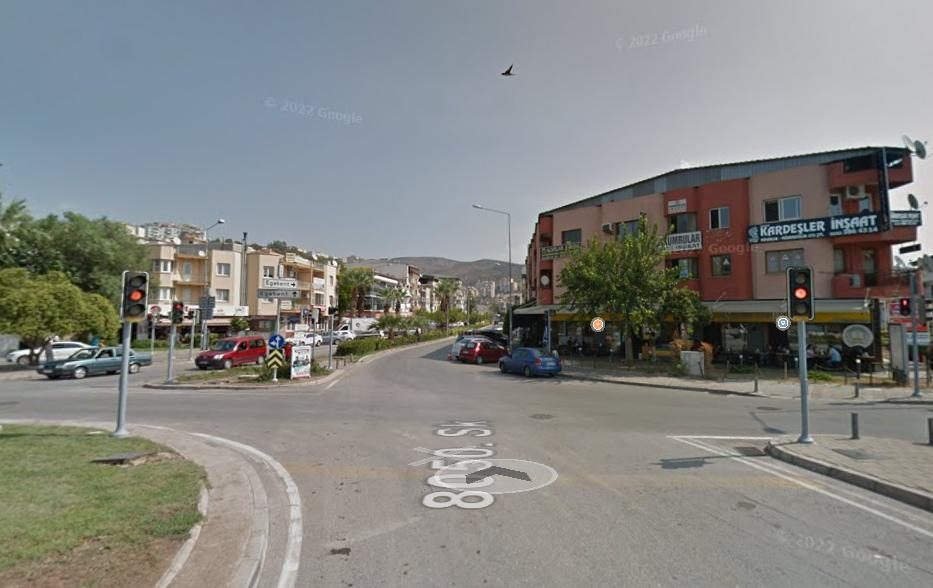yellowlight: (124, 269, 147, 318), (789, 268, 812, 317)
